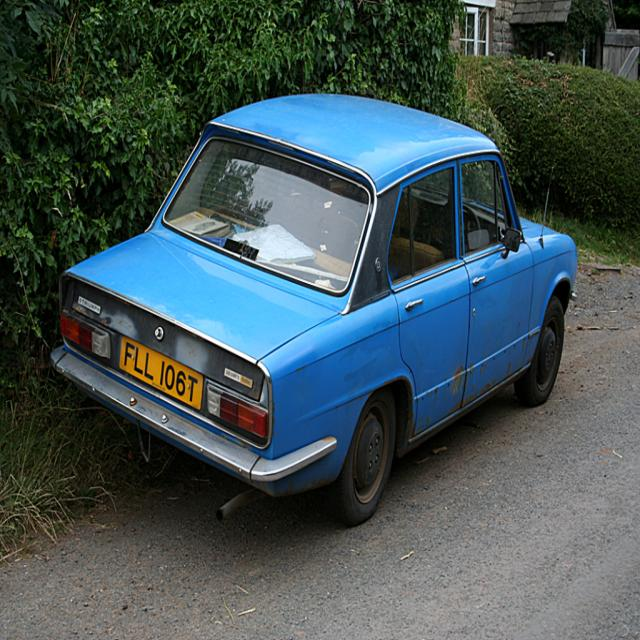car: (49, 94, 580, 528)
